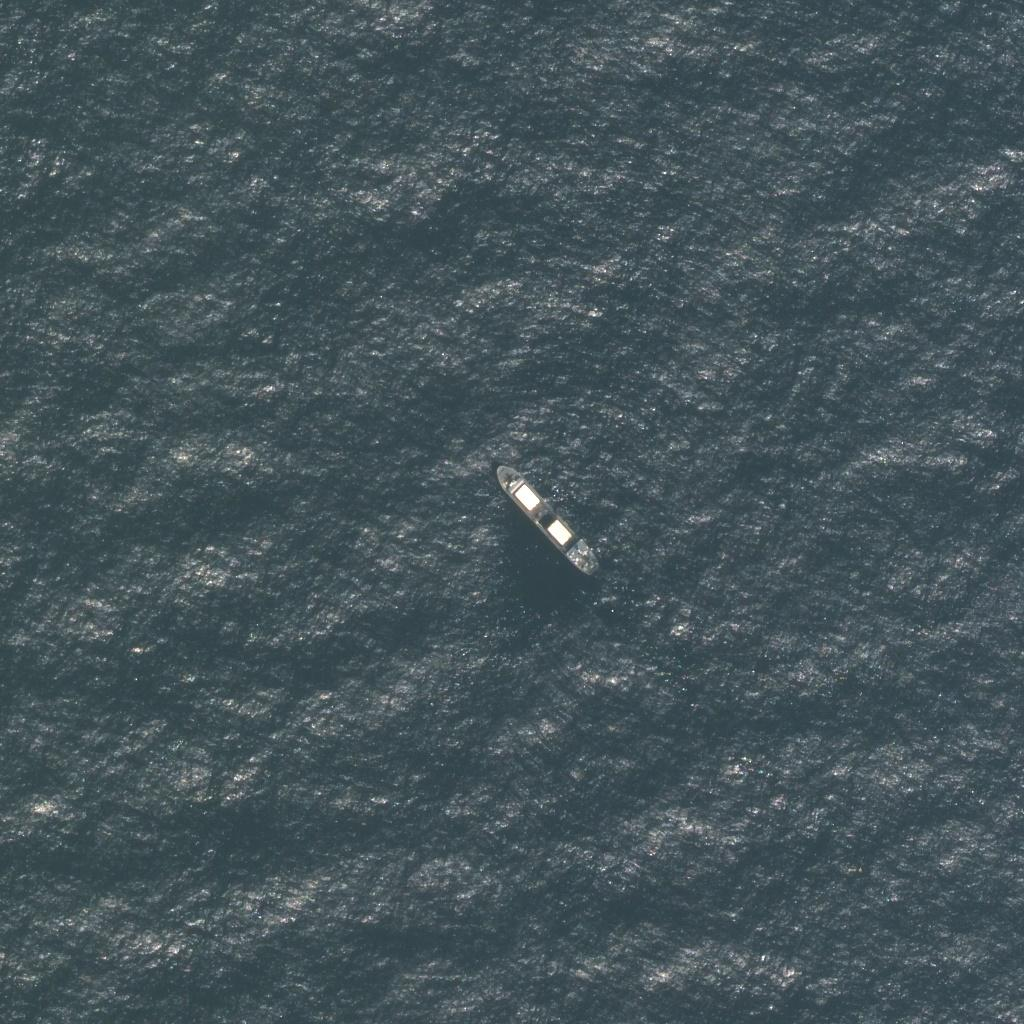ship: (496, 460, 599, 577)
